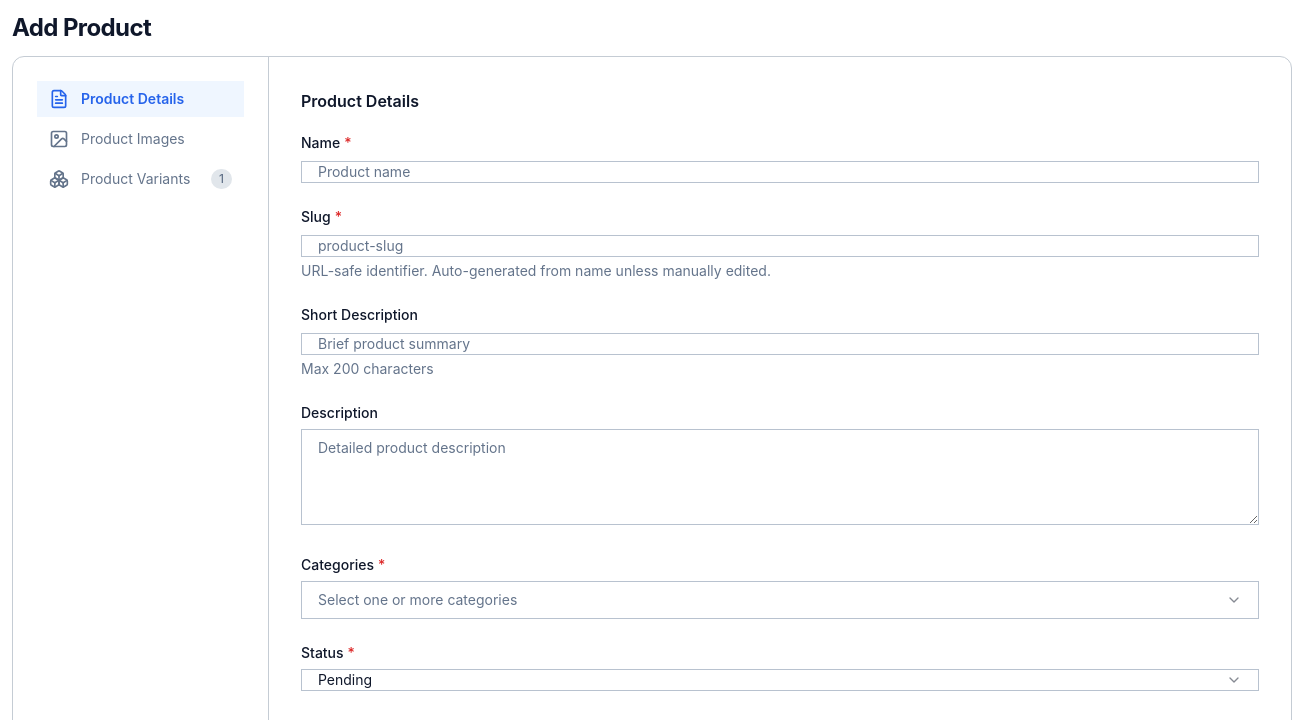
Test: ProductCreatePage › auto-generates slug from name field
The image size is (1292, 720).
Type "My Cool Product" into the field with placeholder "Product name" at (780, 172), box x1=301 y1=161 x2=1259 y2=183
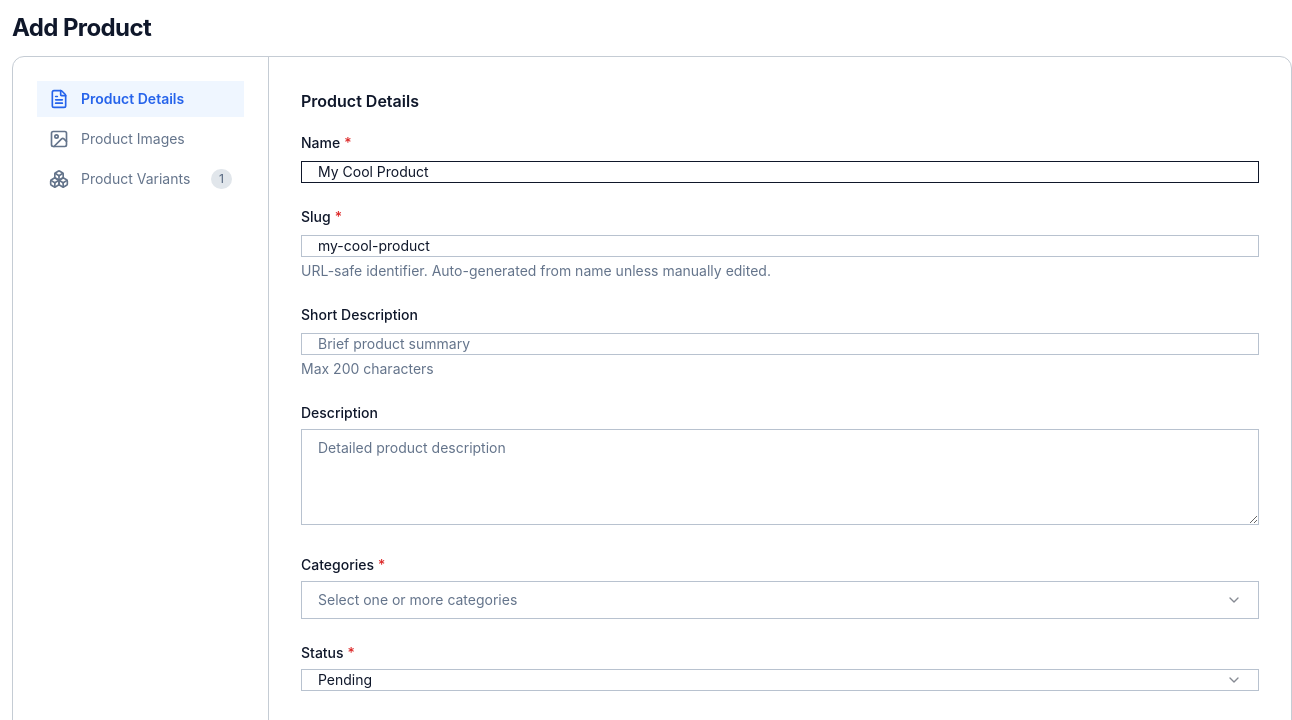
Check: the field with placeholder "product-slug" holds "my-cool-product", box x1=301 y1=235 x2=1259 y2=257
